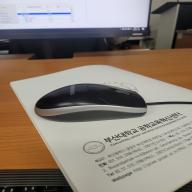mouse: (23, 73, 152, 127)
